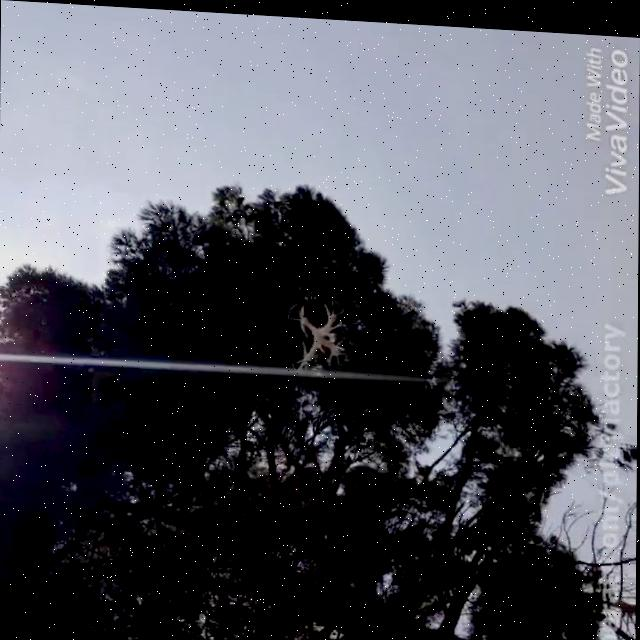drone: (283, 291, 351, 371)
